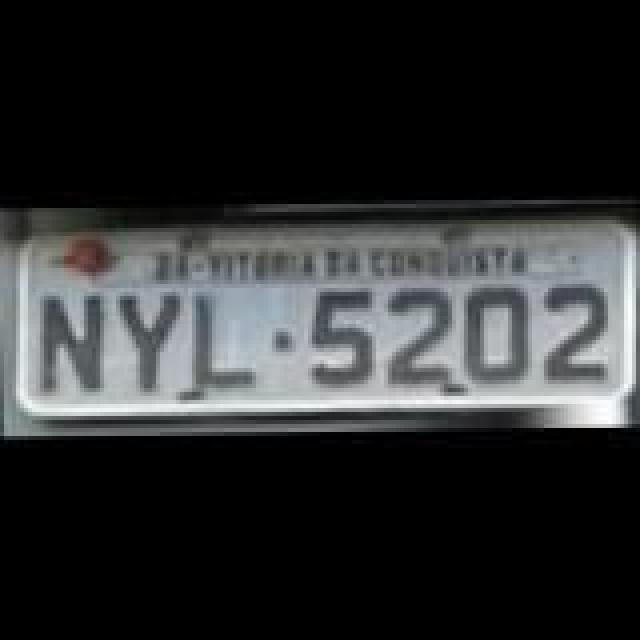2: (378, 288, 454, 384), (542, 284, 610, 388)
5: (310, 286, 378, 386)
L: (192, 292, 256, 396)
N: (38, 296, 106, 400)
O: (460, 284, 532, 388)
Y: (118, 292, 186, 396)
